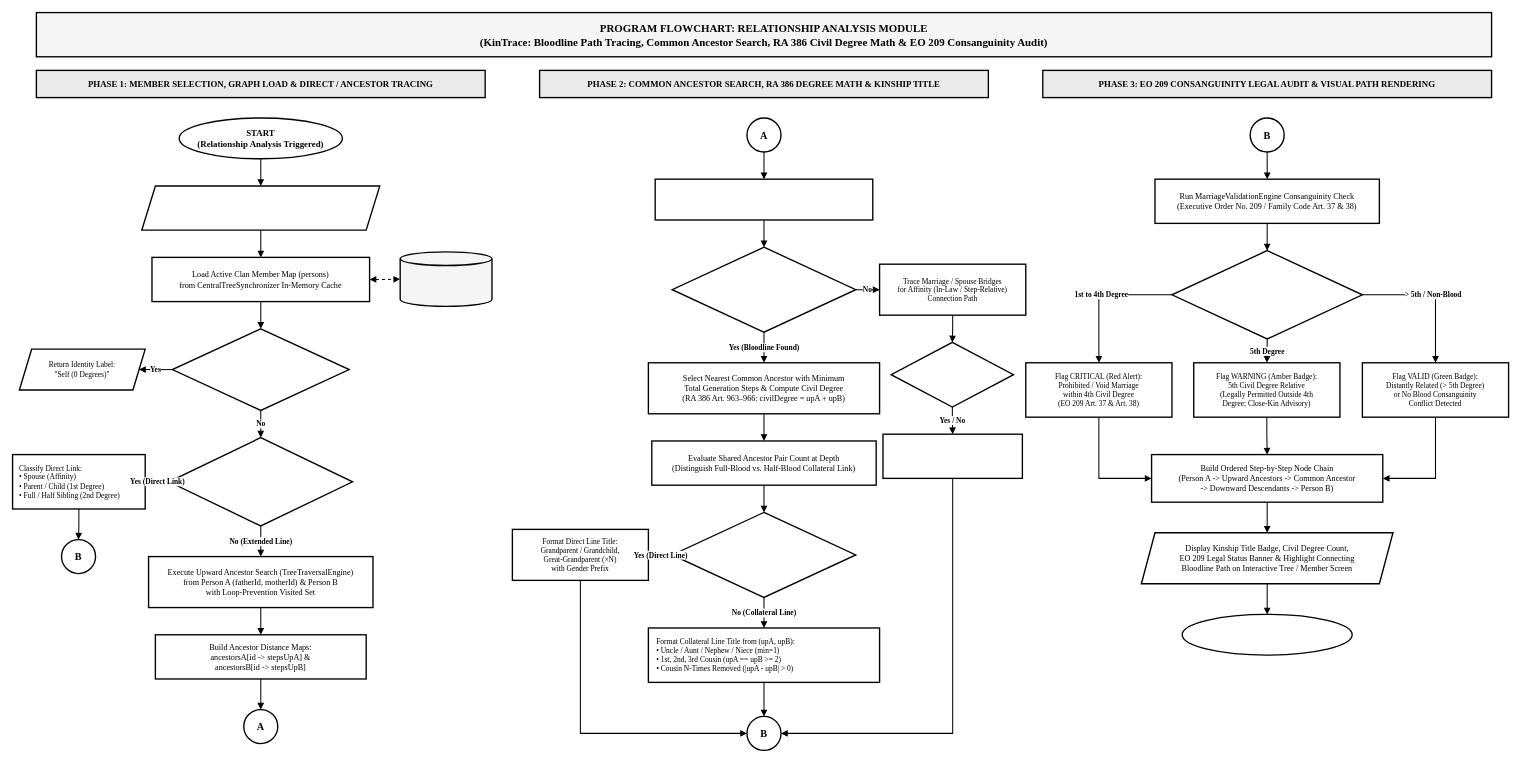
Some shapes in this 1520 by 762 pixel diagram are drawn without their labels. Each missing label, with the box of its shape:
Are A and B Directly Linked (Spouse, Parent, Child, or Sibling)?: (168, 437, 353, 526)
Assign In-Law / Step Title (Non-Blood / Affinity Link) or "No Direct Bloodline": (882, 433, 1023, 479)
Cloud Firestore (persons Graph Snapshot): (399, 251, 492, 307)
END (Relationship Analysis Complete): (1181, 613, 1353, 656)
In-Law / Affinity Link Found?: (890, 341, 1014, 407)
Intersect ancestorsA and ancestorsB Keys to Find Shared Bloodline Ancestors: (654, 178, 873, 220)
Is Person A ID == Person B ID (Same Individual)?: (171, 328, 350, 411)
Is upA == 0 OR upB == 0 (Direct Ascendant / Descendant Line)?: (671, 511, 856, 598)
Select Anchor Member (Person A) & Target Member (Person B) from Tree or Profile: (141, 185, 380, 231)
Was a Shared Bloodline Common Ancestor Found?: (671, 246, 856, 333)
What is the Blood Civil Degree Between Person A and Person B?: (1171, 250, 1363, 339)
